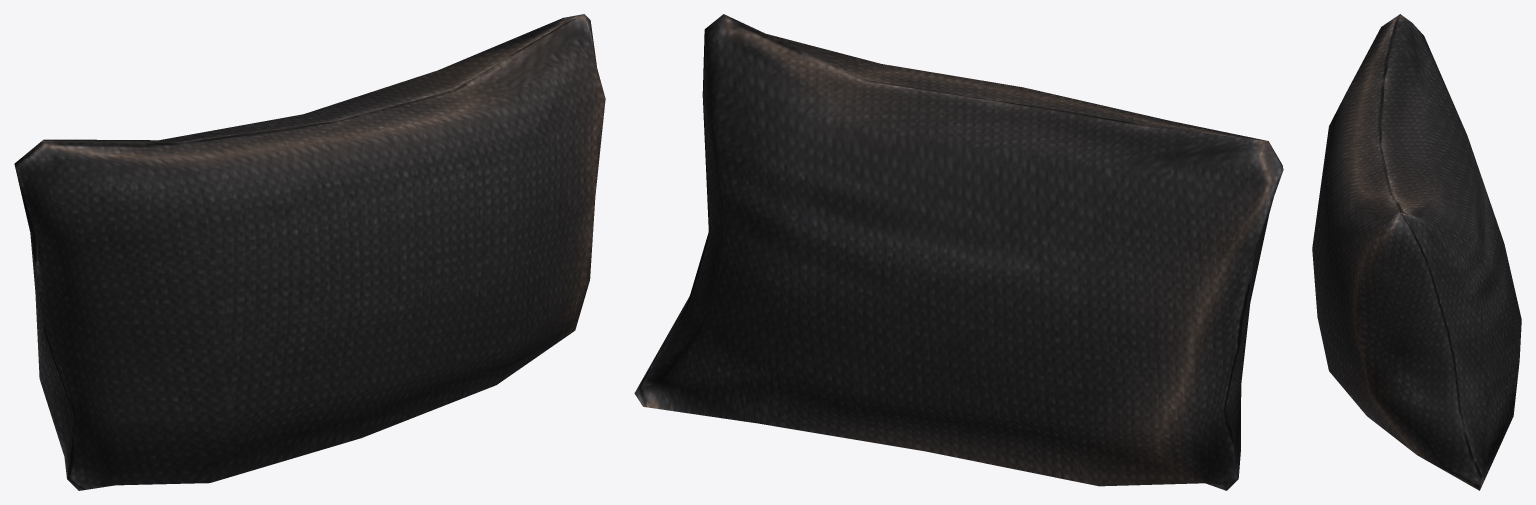
File: PillowF.FBX
The picture shows the model from 3 angles, left to right: view 1: azimuth 30°, elevation 25°; view 2: azimuth 150°, elevation 25°; view 3: azimuth 270°, elevation 25°; orthographic projection. The views are drawn at different scales.
Parts seen in each view (by area): view 1: PillowF; view 2: PillowF; view 3: PillowF.
Boxes of the visible parts, x1,y1,x2,y2 form: PillowF: (14, 14, 605, 490); PillowF: (634, 14, 1283, 490); PillowF: (1312, 14, 1521, 490).
Bounding box in the file's own units: 47.42 × 19.38 × 27.63.
